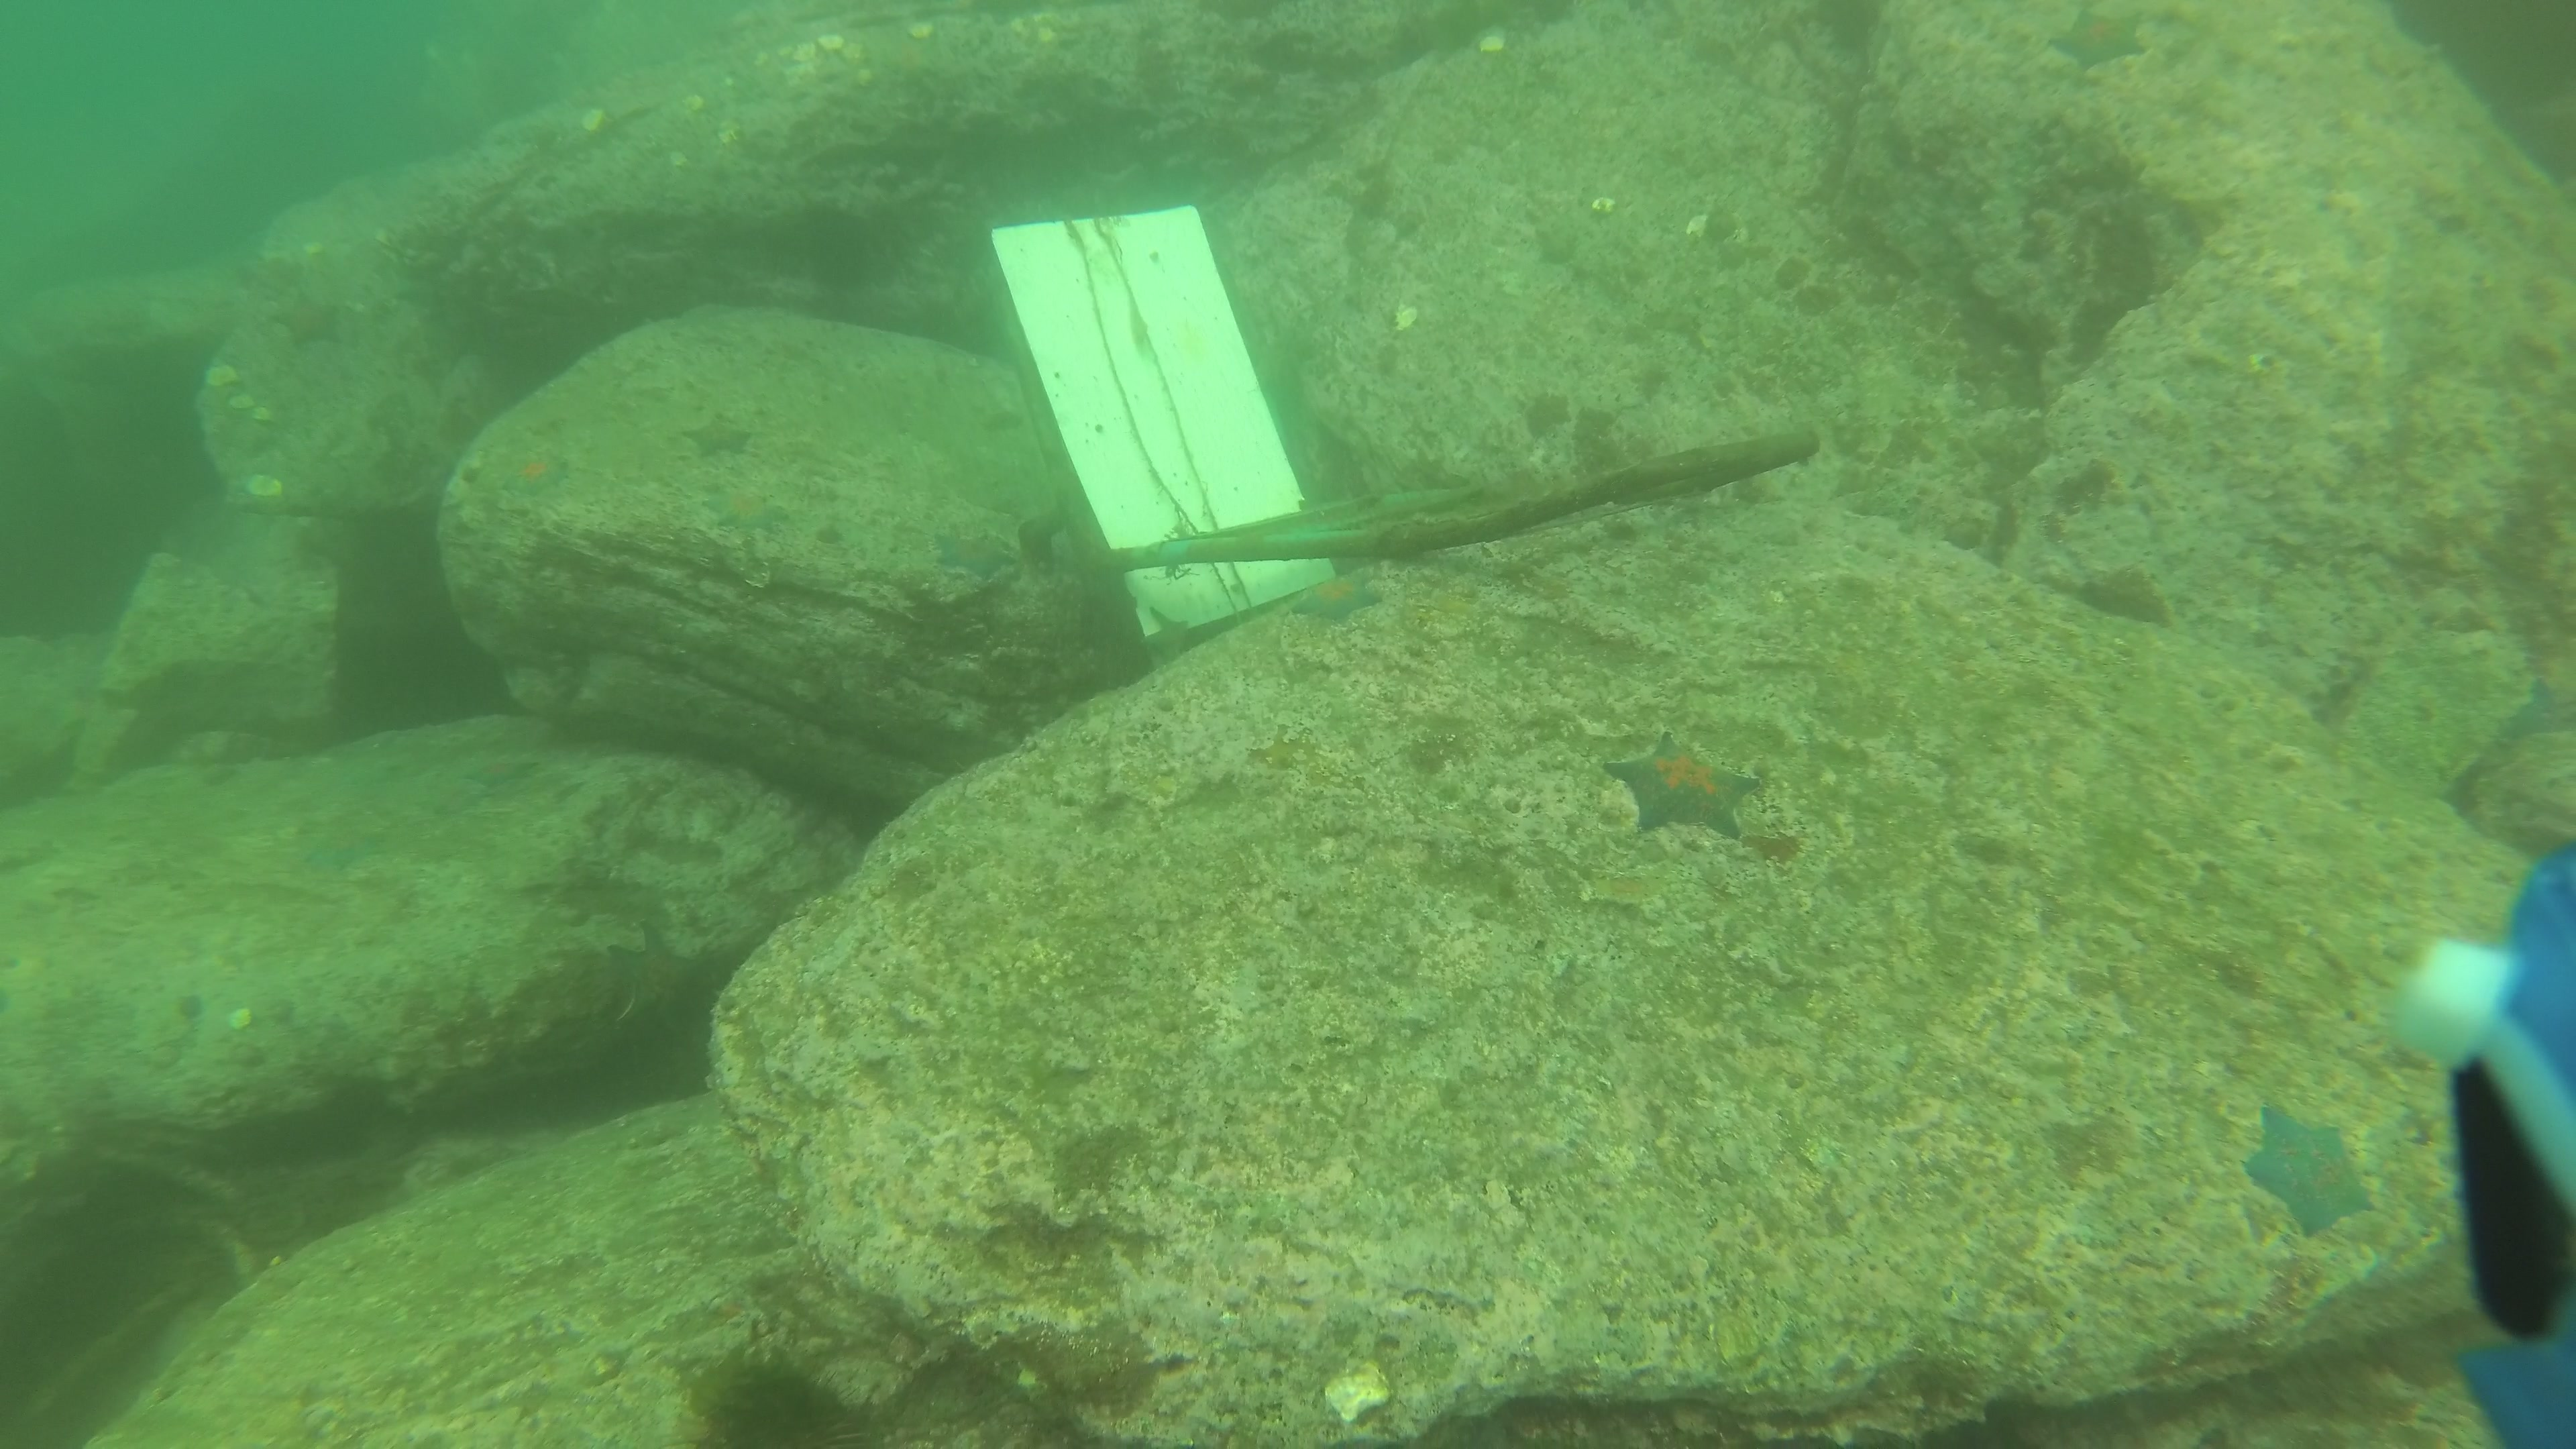echinus: (692, 1361, 881, 1449)
starfish: (1594, 720, 1766, 844), (2238, 1095, 2381, 1238), (1290, 570, 1389, 626), (931, 522, 1021, 584), (697, 487, 793, 534), (502, 441, 575, 499), (679, 410, 757, 462)
